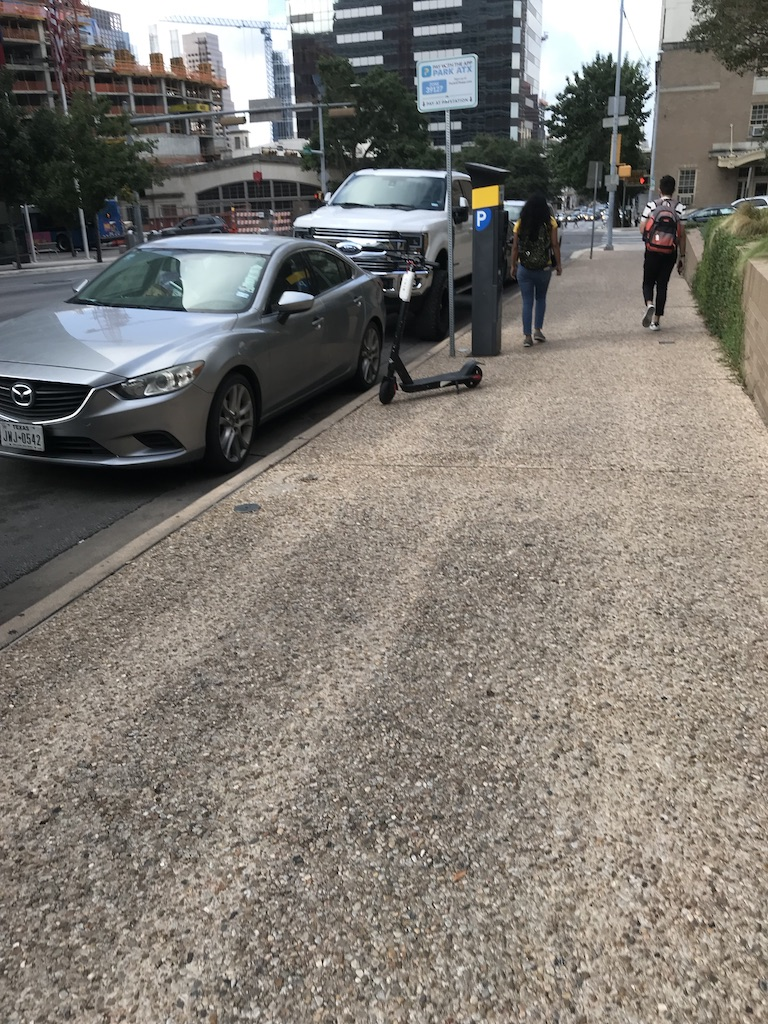scooter: (379, 251, 484, 406)
